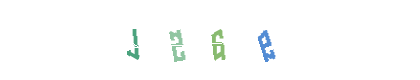2: (155, 0, 235, 80)
6: (170, 0, 250, 80)
E: (225, 0, 305, 80)
J: (143, 0, 223, 80)
